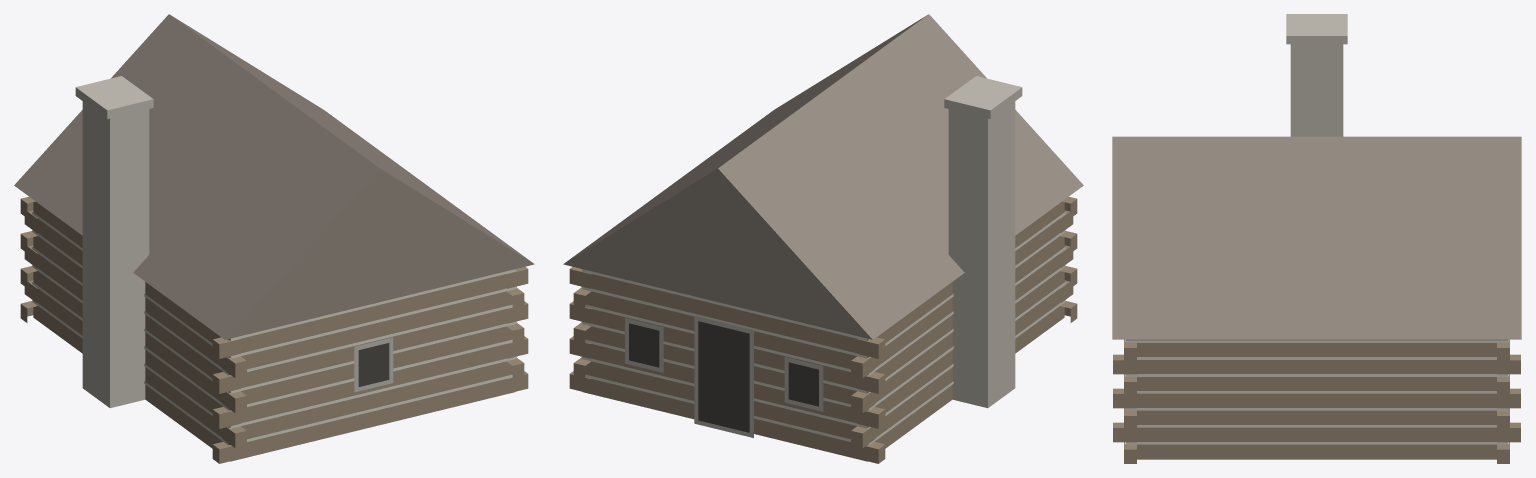
Rendered from recon_1835_blk_lake_market_d1_05__inferred_1835.glb.
3 views of the same model, side by side, from view 1: azimuth 30°, elevation 25°; view 2: azimuth 150°, elevation 25°; view 3: azimuth 270°, elevation 25° (orthographic). The views are drawn at different scales.
Visible parts, largest first — view 1: recon_1835_blk_lake_market_d1_05__inferred_1835; view 2: recon_1835_blk_lake_market_d1_05__inferred_1835; view 3: recon_1835_blk_lake_market_d1_05__inferred_1835.
Boxes of the visible parts, left/top/right/bottom form: recon_1835_blk_lake_market_d1_05__inferred_1835: left=14, top=14, right=534, bottom=463; recon_1835_blk_lake_market_d1_05__inferred_1835: left=563, top=14, right=1083, bottom=463; recon_1835_blk_lake_market_d1_05__inferred_1835: left=1112, top=14, right=1521, bottom=463.
Size of the model in its own units: 6.87 by 5.91 by 7.43.
